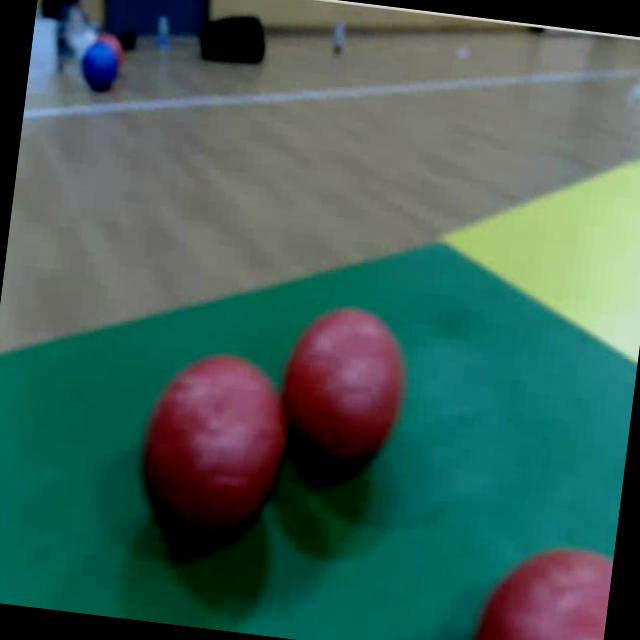blue_ball: (76, 39, 122, 97)
red_ball: (128, 349, 296, 560), (277, 303, 420, 487), (470, 532, 614, 640)
